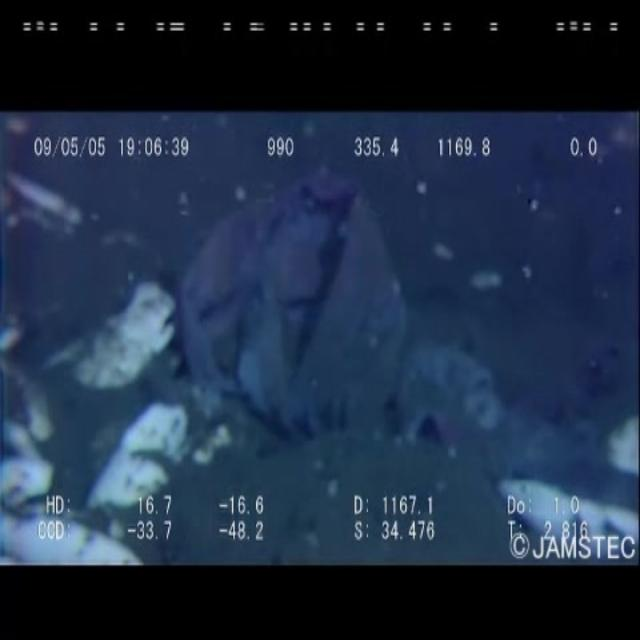Accessories: (172, 162, 424, 458)
